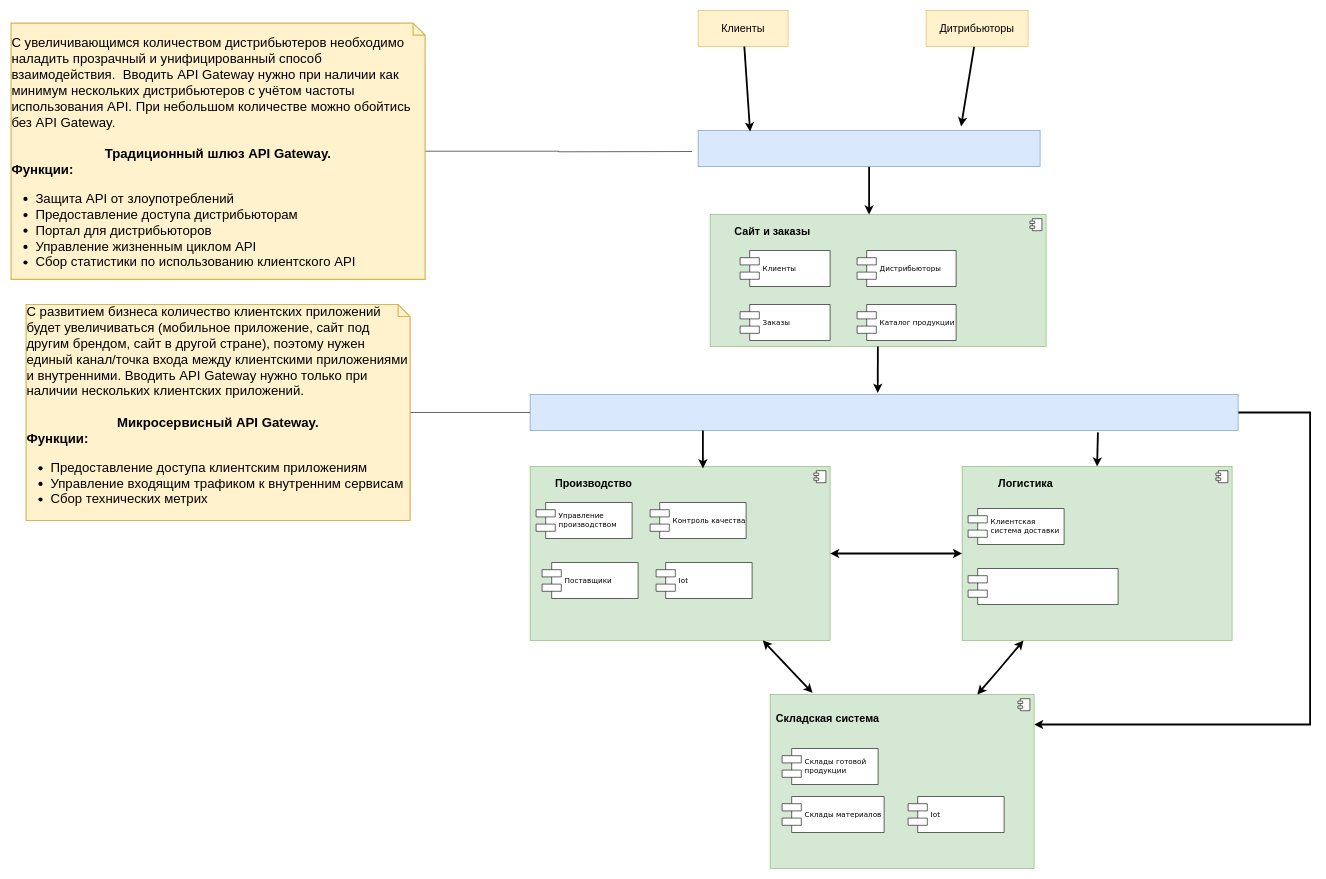
Some shapes in this 1326 by 879 pixel diagram are drawn without their labels. Each missing label, with the box of its shape:
Внутренняя логистика: (968, 568, 1118, 604)
Микросервисный API Gateways: (530, 394, 1238, 430)
Традиционный шлюз. API Gateway: (698, 130, 1040, 166)
